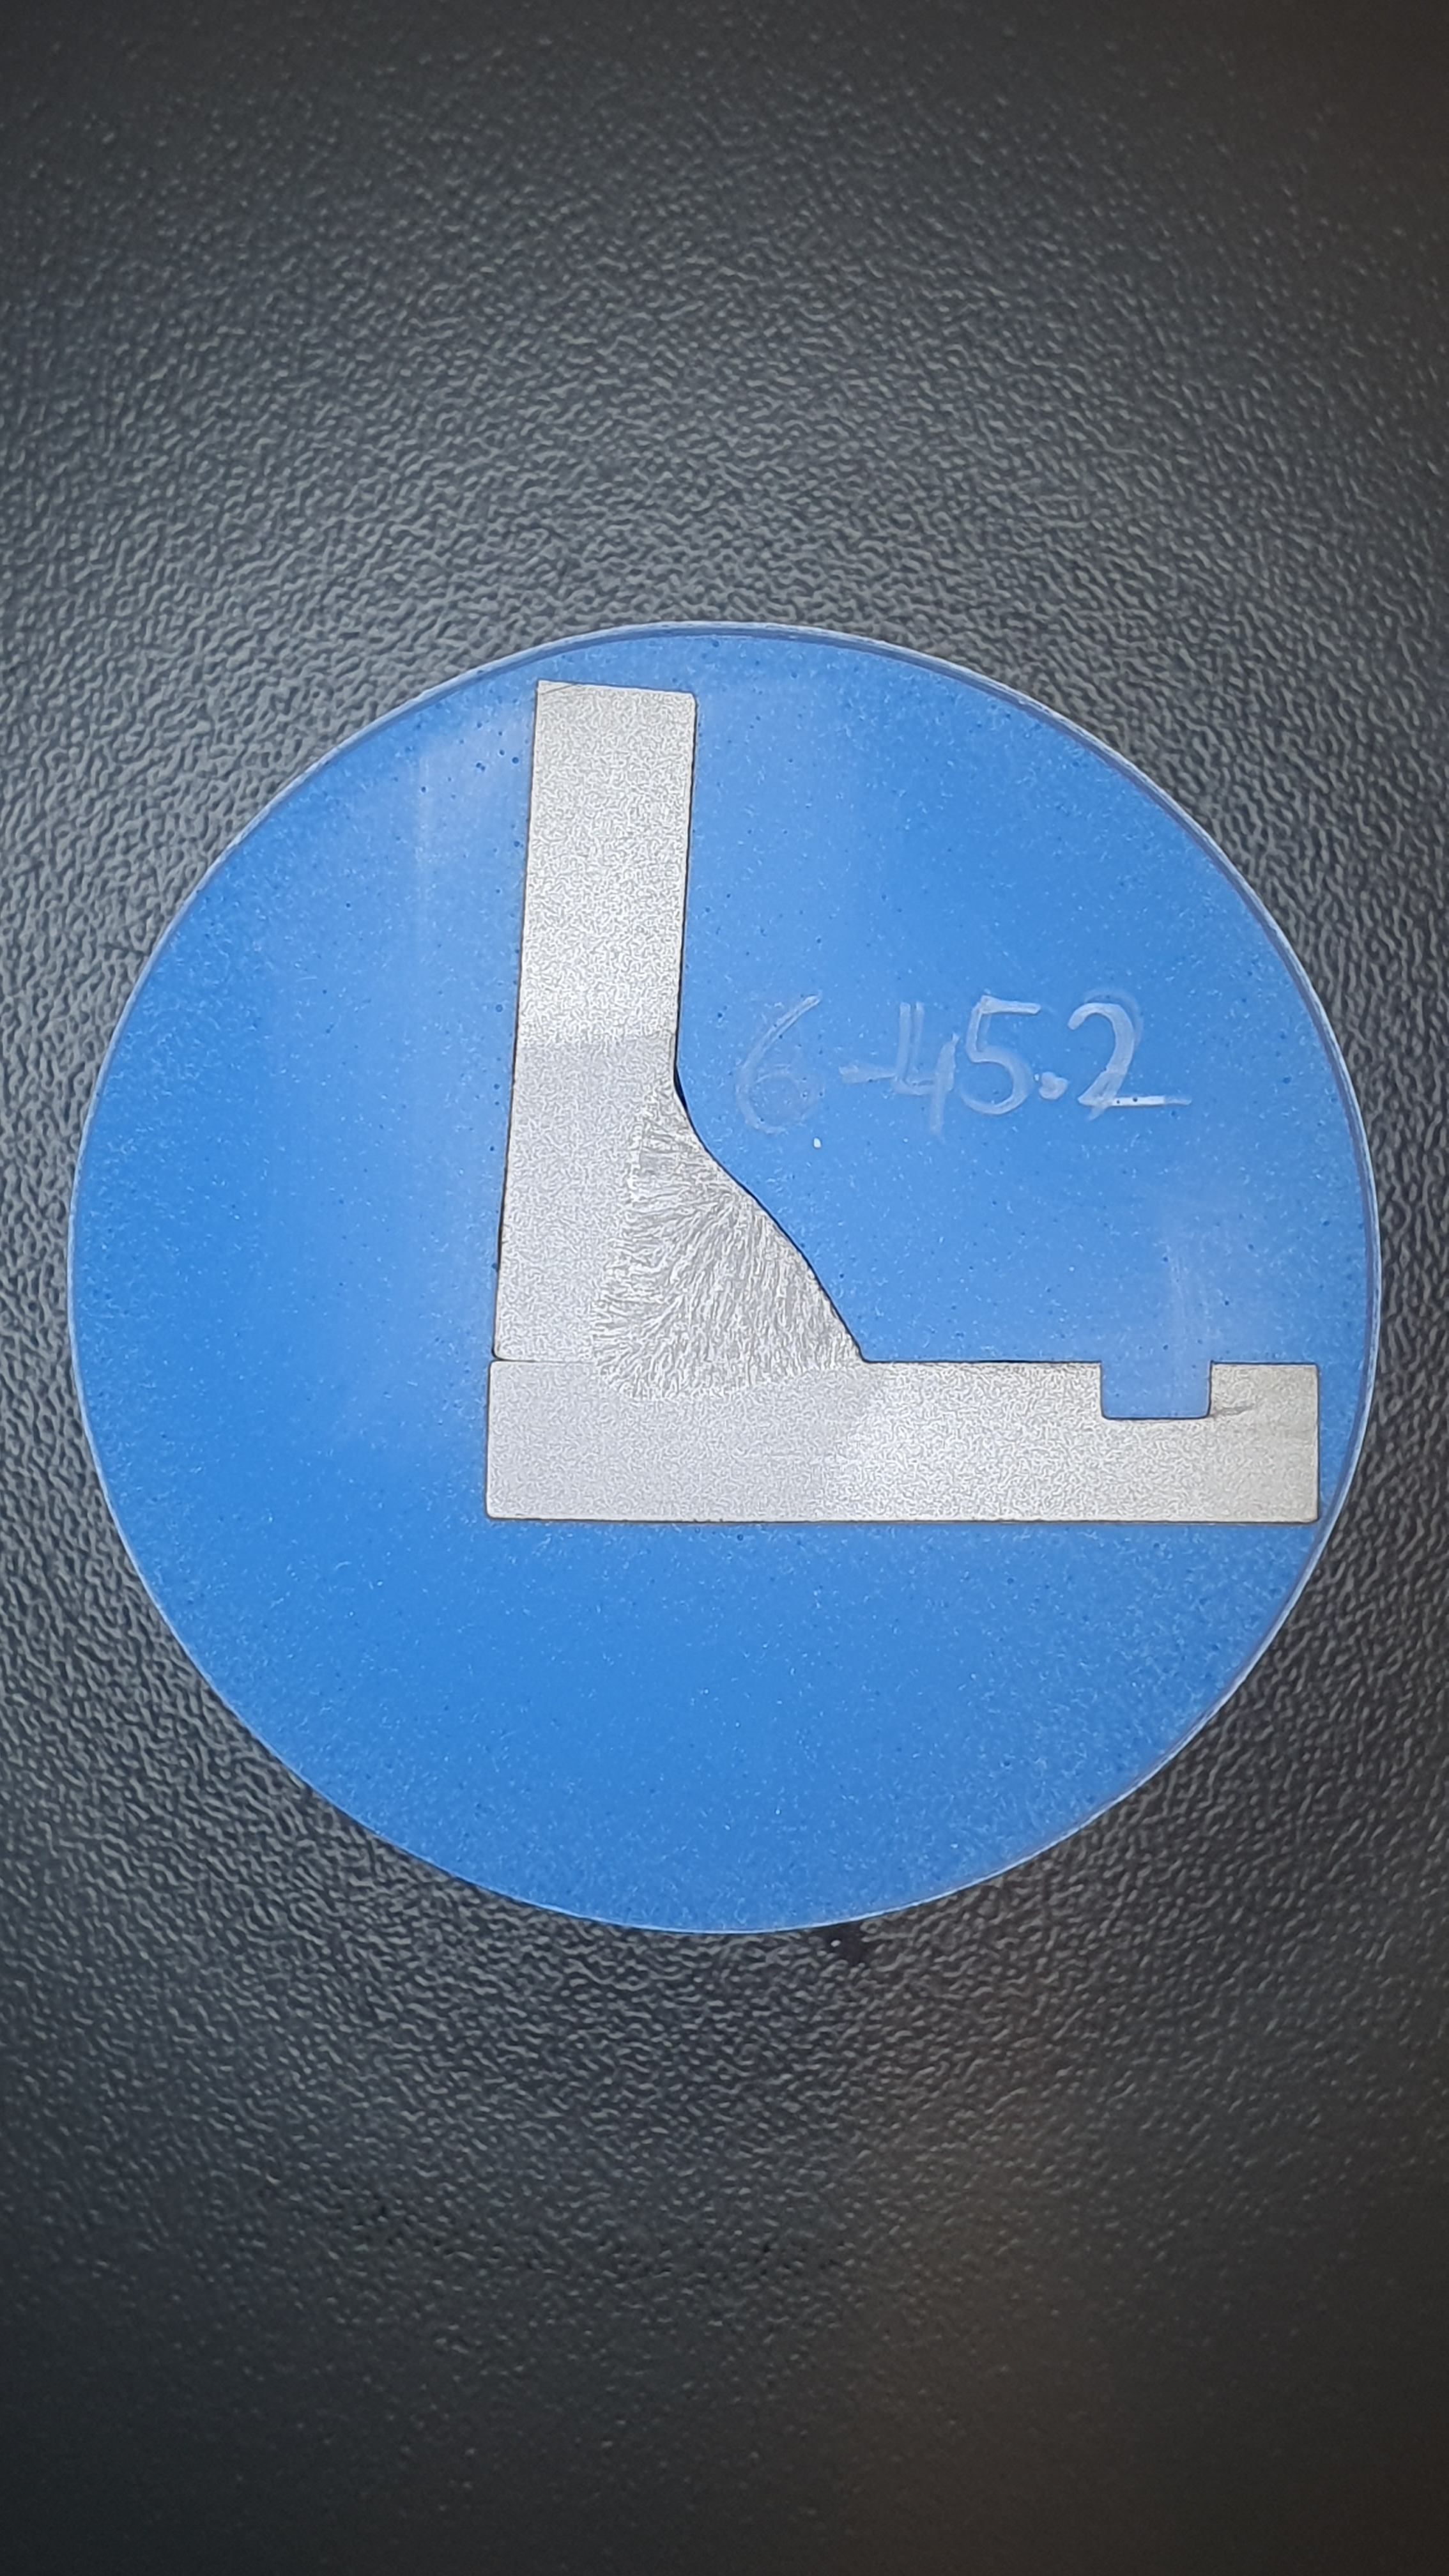Fusion: (589, 1073, 861, 1402)
Hintergrund: (74, 635, 1372, 1931)
Metall: (485, 678, 1319, 1524)
Nebenbereich: (513, 1027, 888, 1499)
